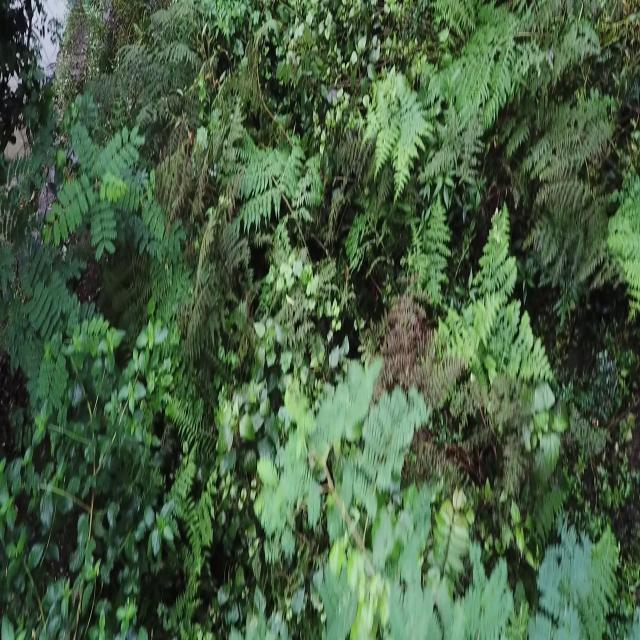Mysore-Thorn-Weed: (244, 359, 640, 640), (43, 120, 185, 265), (0, 280, 112, 408), (19, 242, 89, 281), (0, 156, 32, 236)
